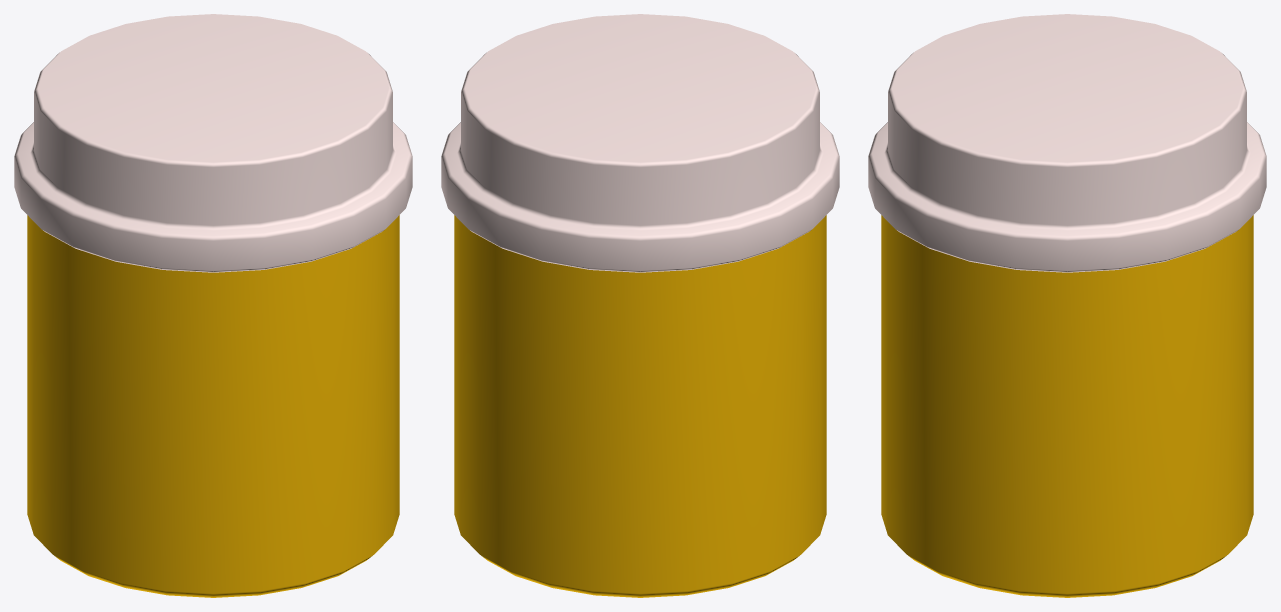
File: Public_3_Bottle_of_Medicine_3.glb
3 renders of one model, left to right at view 1: azimuth 30°, elevation 25°; view 2: azimuth 150°, elevation 25°; view 3: azimuth 270°, elevation 25°, orthographic.
Parts seen in each view (by area): view 1: Public_3_Bottle_of_Medicine_3; view 2: Public_3_Bottle_of_Medicine_3; view 3: Public_3_Bottle_of_Medicine_3.
Part boxes in pixels (left/top/right/bottom): Public_3_Bottle_of_Medicine_3: left=14, top=14, right=412, bottom=597; Public_3_Bottle_of_Medicine_3: left=441, top=14, right=839, bottom=597; Public_3_Bottle_of_Medicine_3: left=868, top=14, right=1266, bottom=597.
Size of the model in its own units: 1.68 by 2.02 by 1.68.
1 material, 1 textured.
